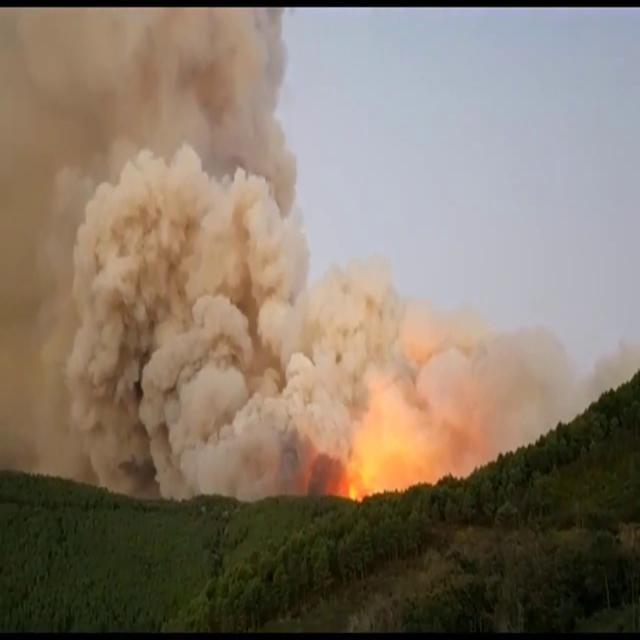Fire: (332, 445, 413, 498)
Smoke: (21, 29, 280, 466)
